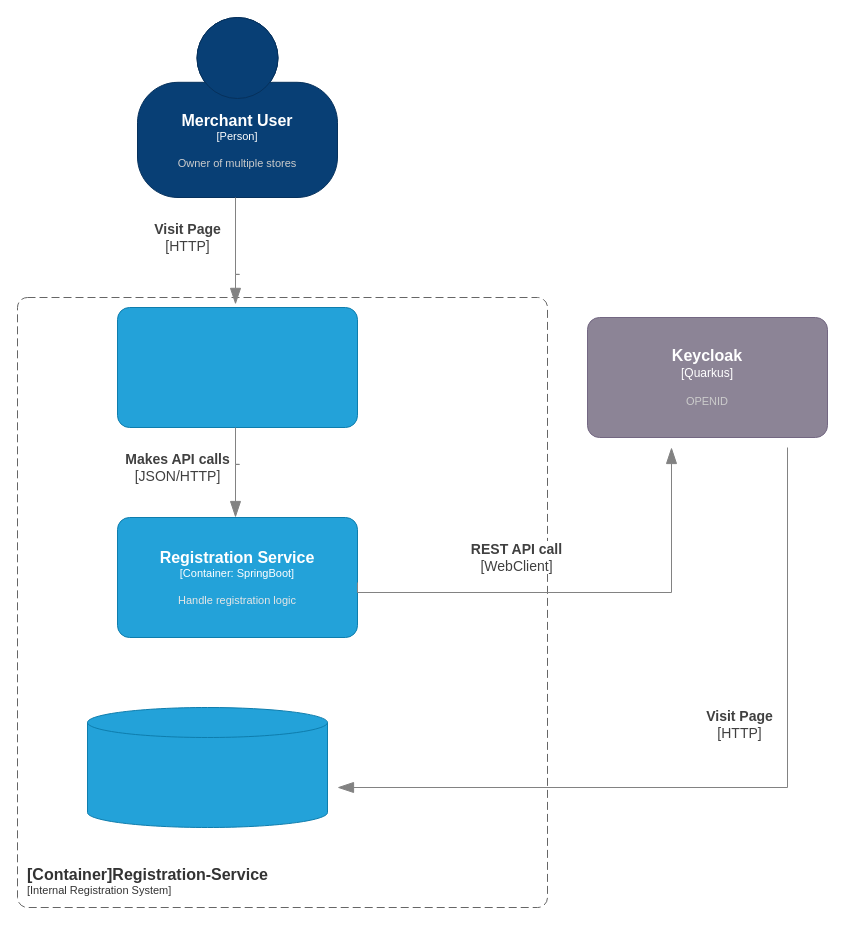
Image size: 845x925. Some labels were removed from this diagram. The centre of each missing label's shape, as x and y in pixels:
CMS-UI [Container: Angular] Registration UI: point (237, 367)
Database [Container: PostgreSQL] Stores user: point (207, 767)
